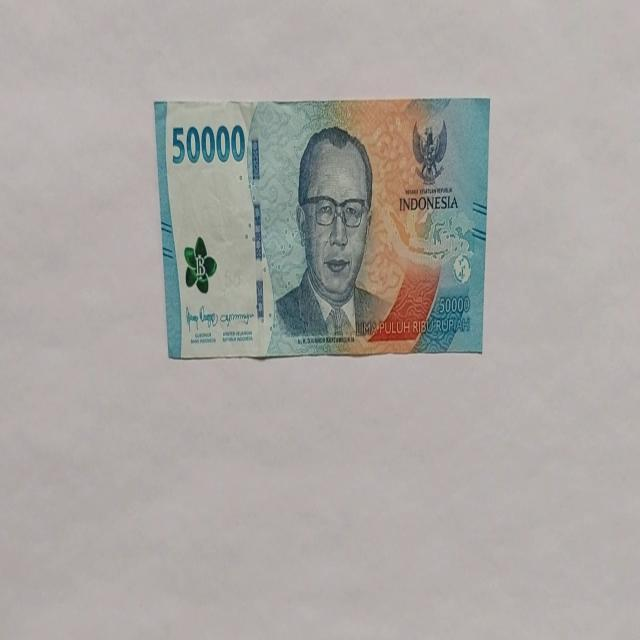lima puluh ribu rupiah: (154, 96, 491, 361), (271, 124, 391, 344)
